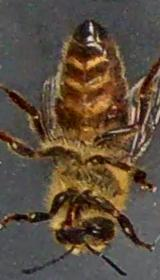varroa_mite: (102, 93, 125, 125)
